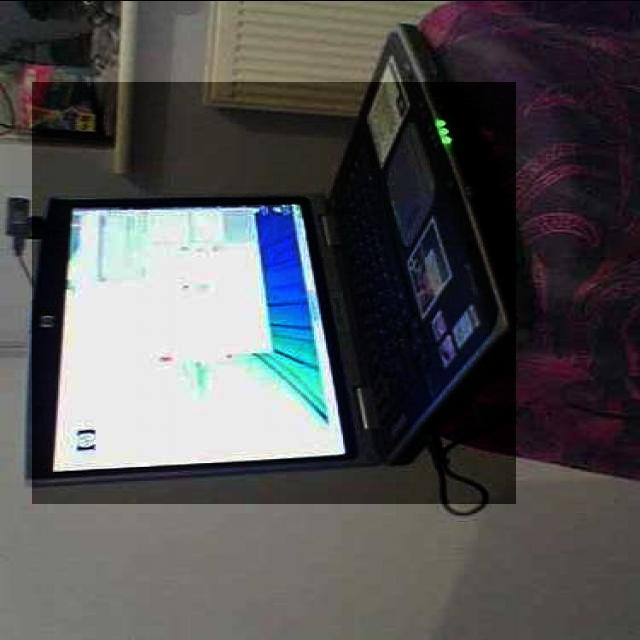-keyboard-: (32, 82, 516, 504)
